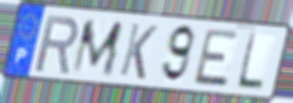9: (158, 23, 196, 86)
E: (191, 27, 242, 89)
K: (117, 21, 160, 82)
L: (234, 30, 266, 92)
M: (69, 19, 126, 78)
R: (32, 13, 81, 76)
